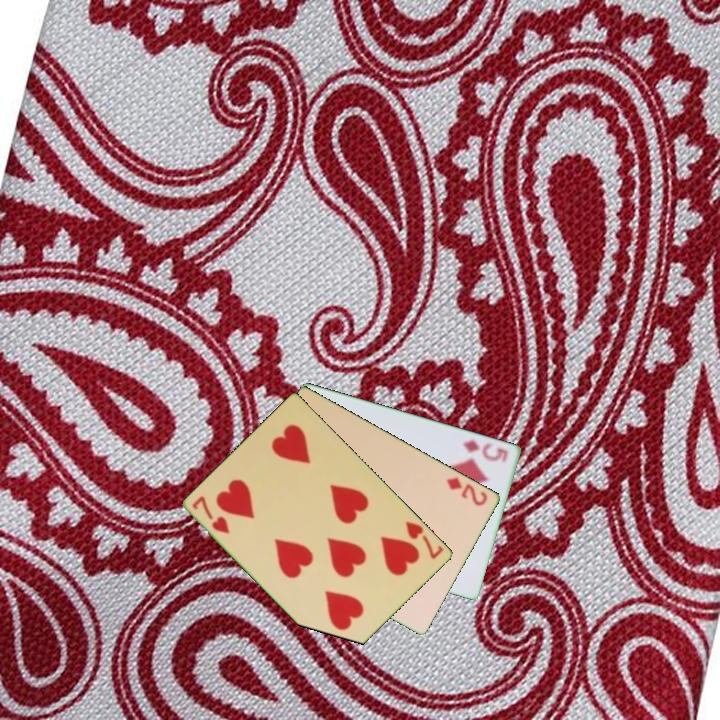2d: (443, 474, 491, 509)
5d: (460, 436, 511, 466)
7h: (402, 517, 446, 562), (189, 492, 233, 537)
